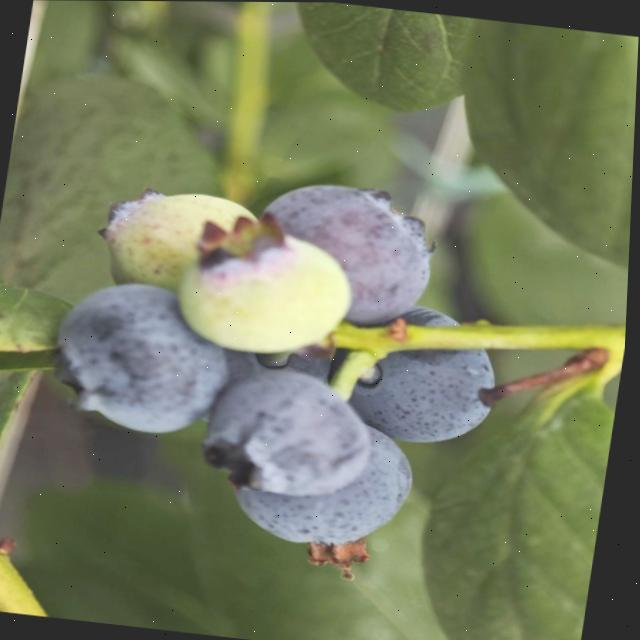RipeBlueBerry: (202, 366, 382, 501)
UnripeBlueBerry: (178, 225, 362, 355)
